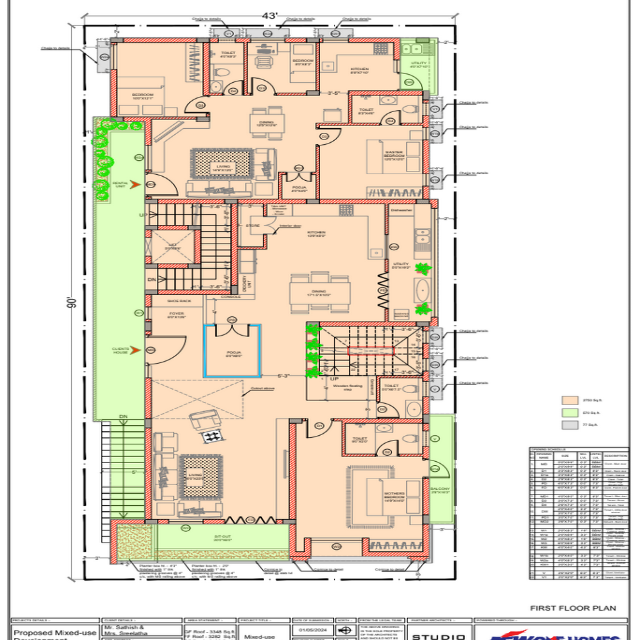door: (145, 335, 187, 365), (144, 172, 178, 196), (306, 419, 333, 439), (250, 76, 277, 95), (317, 128, 343, 146), (184, 95, 207, 114), (399, 72, 423, 90), (375, 439, 399, 456), (377, 401, 400, 418), (222, 79, 244, 95), (380, 109, 401, 124), (232, 324, 249, 339), (216, 324, 232, 338), (299, 172, 313, 183), (285, 172, 299, 182)
